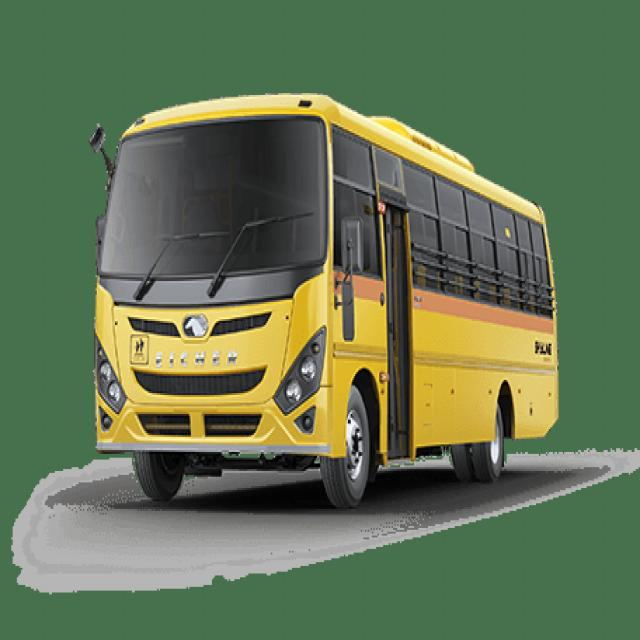bus: (88, 88, 560, 495)
